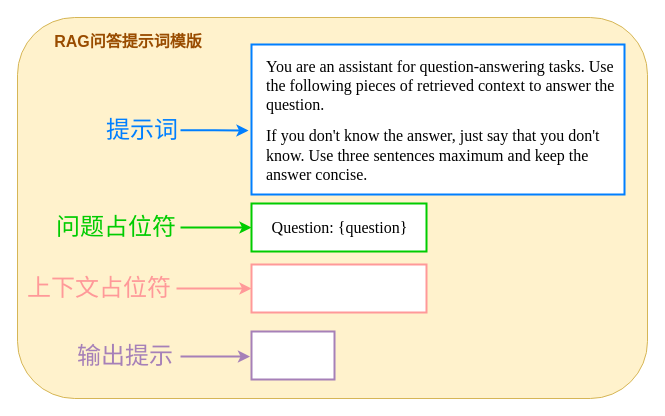
Image size: 665x416. Some labels were removed from this diagram. Each missing label, with the box of its shape:
Answer:: (250, 330, 335, 380)
Context: {context}: (250, 263, 427, 313)
